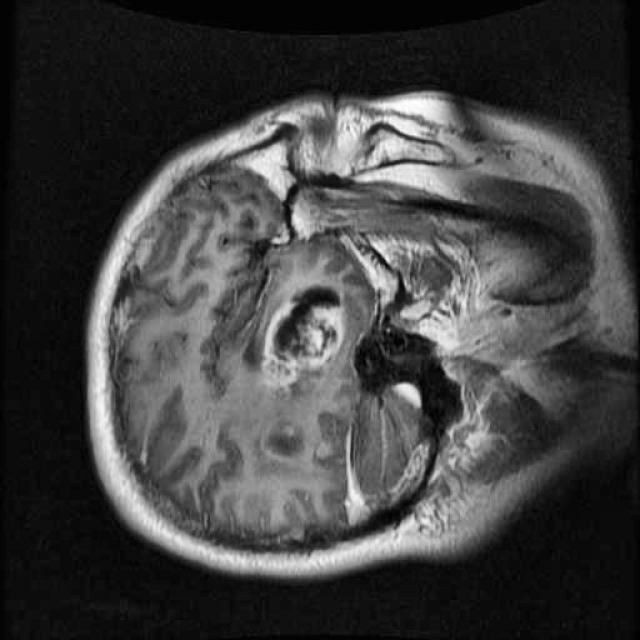Tumor: (254, 274, 358, 395)
